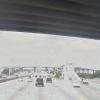Car: (31, 73, 55, 91)
